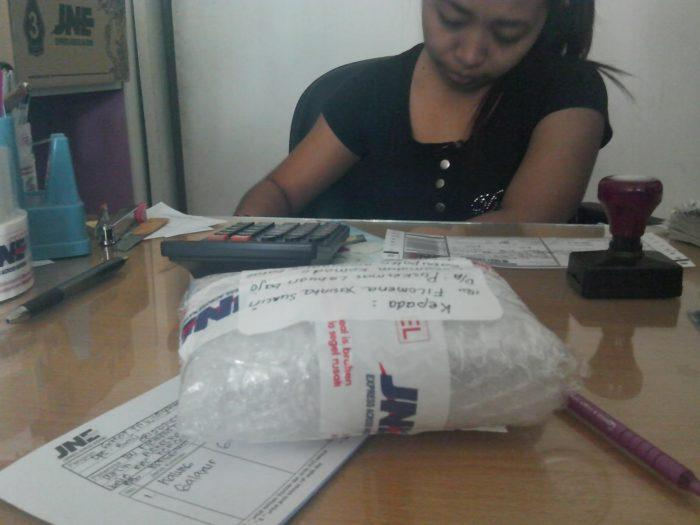undamaged: (164, 255, 585, 450)
